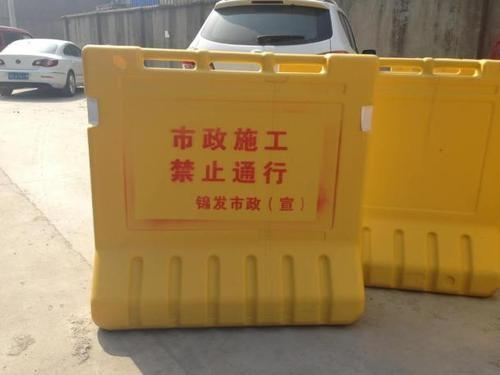cone_barrel: (73, 39, 368, 331)
